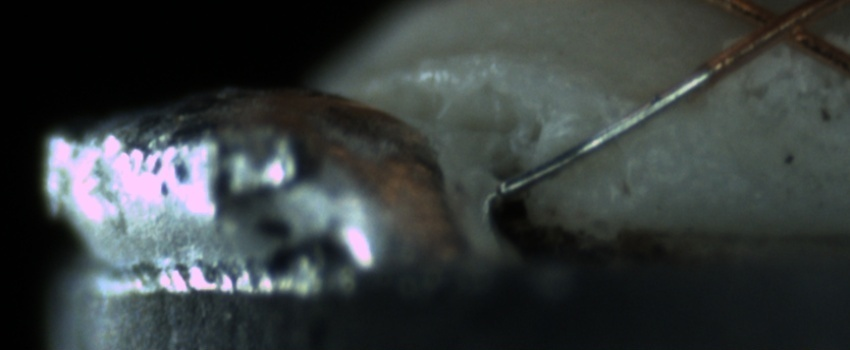CL: (731, 0, 831, 58)
TS: (499, 63, 716, 196)
